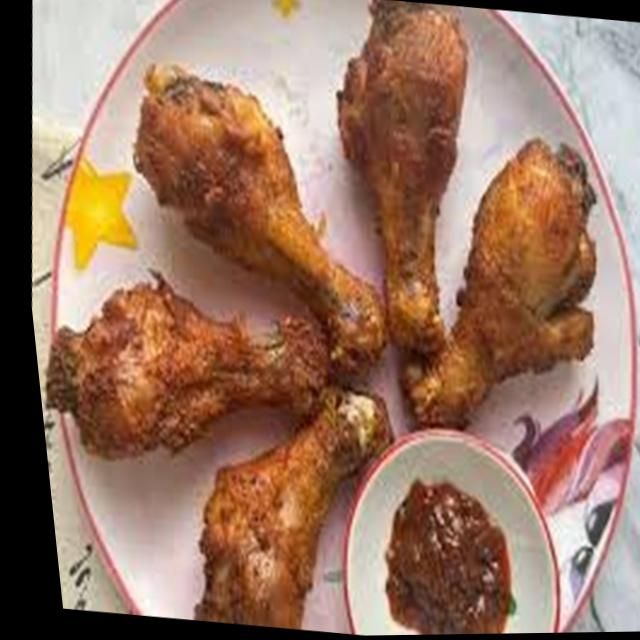CHICKEN FRY: (49, 0, 599, 628)
